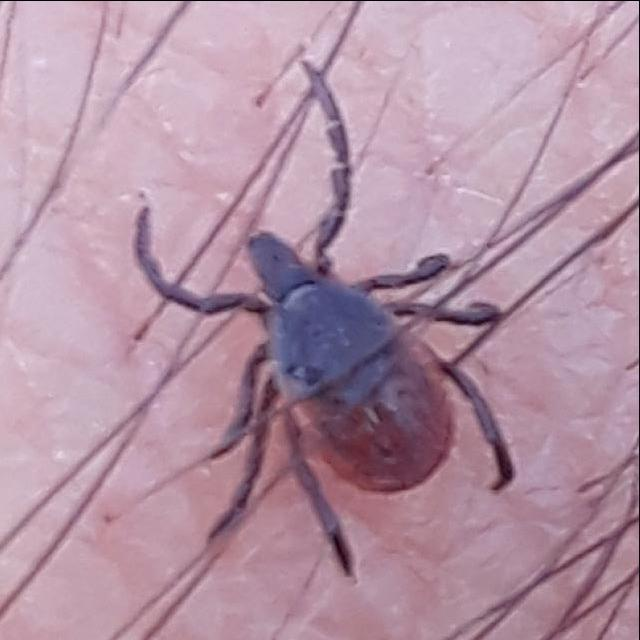Ixodes Ricinus-F: (136, 64, 518, 579)
